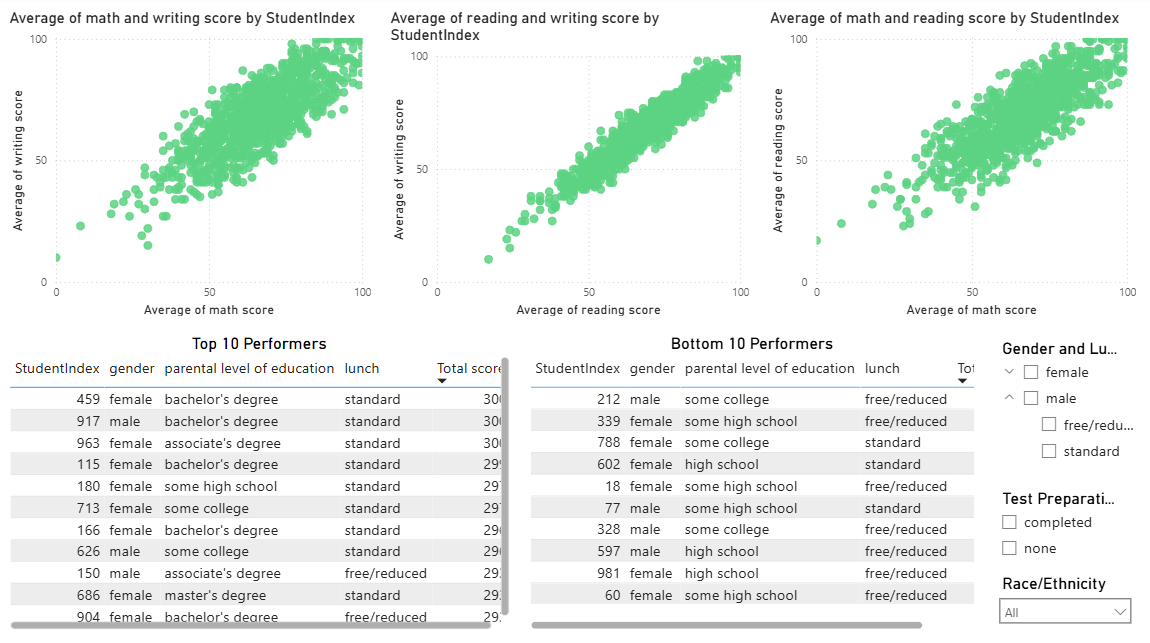

This screenshot's page, from the dashboard's own definition file:
{"tool":"powerbi","page":{"name":"Correlation and Top/Bottom Performers","canvas":[1280,720],"ordinal":6},"visuals":[{"type":"scatterChart","title":"Average of math and writing score by StudentIndex","fields":{"X":["Avg(FactStudentsScores.math score)"],"Category":["FactStudentsScores.StudentIndex"],"Y":["Avg(FactStudentsScores.writing score)"]},"box":[9.9,0,409.2,359.5],"z":0},{"type":"scatterChart","title":"Average of math  and reading score by StudentIndex","fields":{"Category":["FactStudentsScores.StudentIndex"],"X":["Avg(FactStudentsScores.math score)"],"Y":["Avg(FactStudentsScores.reading score)"]},"box":[850.4,0,413.9,359.1],"z":1000},{"type":"scatterChart","title":"Average of reading and writing score by StudentIndex","fields":{"Category":["FactStudentsScores.StudentIndex"],"X":["Avg(FactStudentsScores.reading score)"],"Y":["Avg(FactStudentsScores.writing score)"]},"box":[430.7,0,405.8,359.5],"z":2000},{"type":"tableEx","title":"Top 10 Performers","fields":{"Values":["FactStudentsScores.StudentIndex","DimStudent.gender","DimEducation.parental level of education","DimStudent.lunch","_Measures.Total score"]},"box":[9.9,374.4,561.5,331.3],"z":3000},{"type":"tableEx","title":"Bottom 10 Performers","fields":{"Values":["FactStudentsScores.StudentIndex","DimStudent.gender","DimEducation.parental level of education","DimStudent.lunch","_Measures.Total score"]},"box":[584.7,374.4,500.3,331.3],"z":4000},{"type":"slicer","fields":{"Values":["DimStudent.gender","DimStudent.lunch"]},"box":[1098.2,374.4,165.6,154.1],"z":5000},{"type":"slicer","fields":{"Values":["DimTestPreparation.test preparation course"]},"box":[1098.2,540,165.6,94.4],"z":6000},{"type":"slicer","fields":{"Values":["DimDemographic.race/ethnicity"]},"box":[1098.2,634.4,165.6,82.8],"z":7000}]}

Visuals, with their boxes in screenshot pixels (x1, y1, x2, y2), scaled from the page's 1280x720 canvas onto the 1150x643 screenshot:
"Average of math and writing score by StudentIndex" scatterChart: rect(9, 0, 377, 321)
"Average of math  and reading score by StudentIndex" scatterChart: rect(764, 0, 1136, 321)
"Average of reading and writing score by StudentIndex" scatterChart: rect(387, 0, 752, 321)
"Top 10 Performers" tableEx: rect(9, 334, 513, 630)
"Bottom 10 Performers" tableEx: rect(525, 334, 975, 630)
slicer - DimStudent.gender x DimStudent.lunch: rect(987, 334, 1135, 472)
slicer - DimTestPreparation.test preparation course: rect(987, 482, 1135, 567)
slicer - DimDemographic.race/ethnicity: rect(987, 567, 1135, 640)
